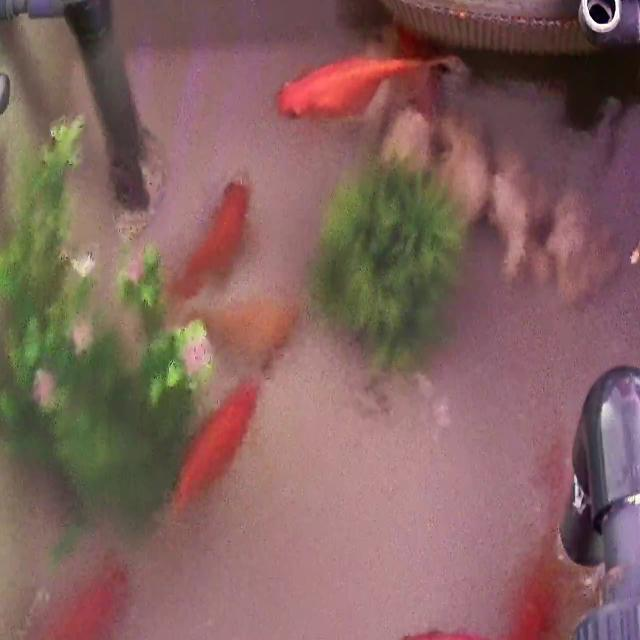fish: (168, 376, 262, 522), (164, 177, 250, 308), (2, 555, 132, 640), (294, 50, 426, 120), (186, 298, 296, 366), (510, 558, 572, 640)
